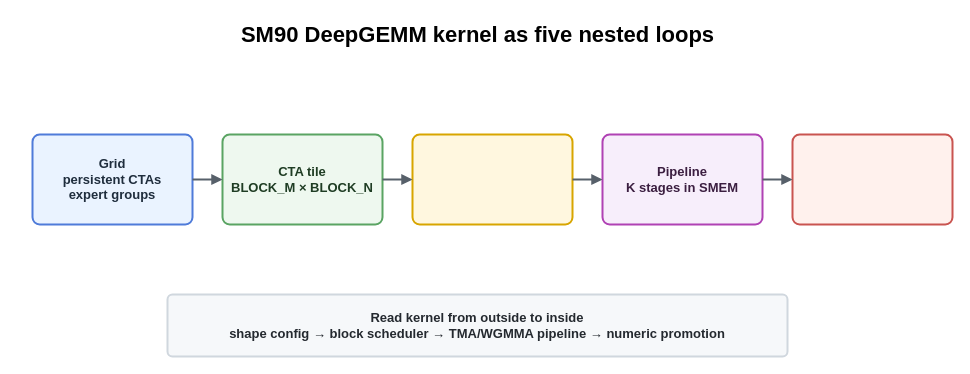
This 970x374 diagram has some shape labels left out. Here are the shapes that lost their labels. From the top down, the centre of each, then its label:
[492,179]: Warp groups TMA producer MMA consumers
[872,179]: WGMMA FP8 MMA + promotion
